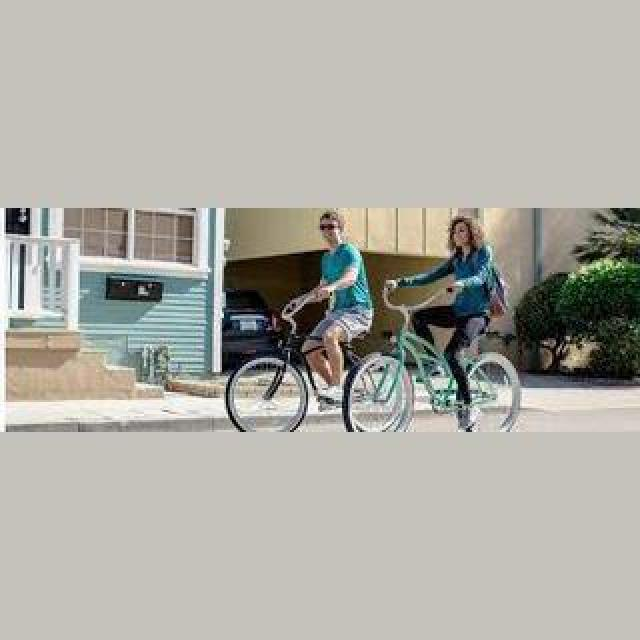Bus-Bike: (222, 288, 272, 360)
MC-Bike: (400, 218, 508, 410), (288, 210, 372, 402)
Person: (223, 286, 419, 432), (340, 286, 520, 432)
